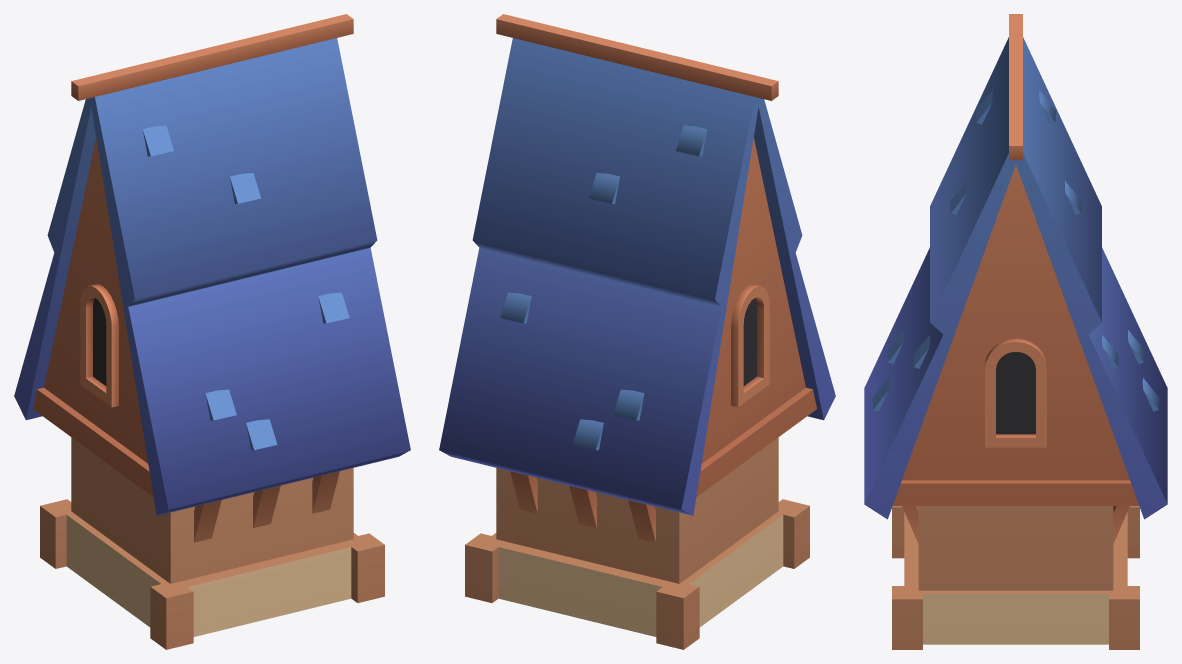
File: tower-slant-roof.obj
3 renders of one model, left to right at view 1: azimuth 30°, elevation 25°; view 2: azimuth 150°, elevation 25°; view 3: azimuth 270°, elevation 25°, orthographic.
Parts seen in each view (by area): view 1: tower-slant-roof; view 2: tower-slant-roof; view 3: tower-slant-roof.
Part boxes in pixels (x1,y1,x2,y2): tower-slant-roof: (14,14,410,649); tower-slant-roof: (439,14,835,649); tower-slant-roof: (864,14,1167,649).
Size of the model in its own units: 1.17 by 2.14 by 1.14.
1 material, 1 textured.
